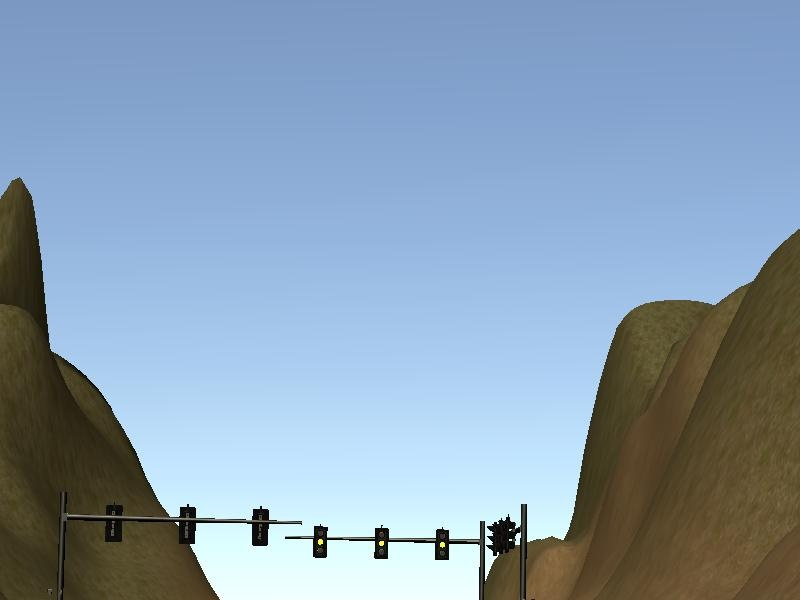Red: (434, 529, 449, 560), (313, 526, 327, 558), (374, 528, 388, 559)
